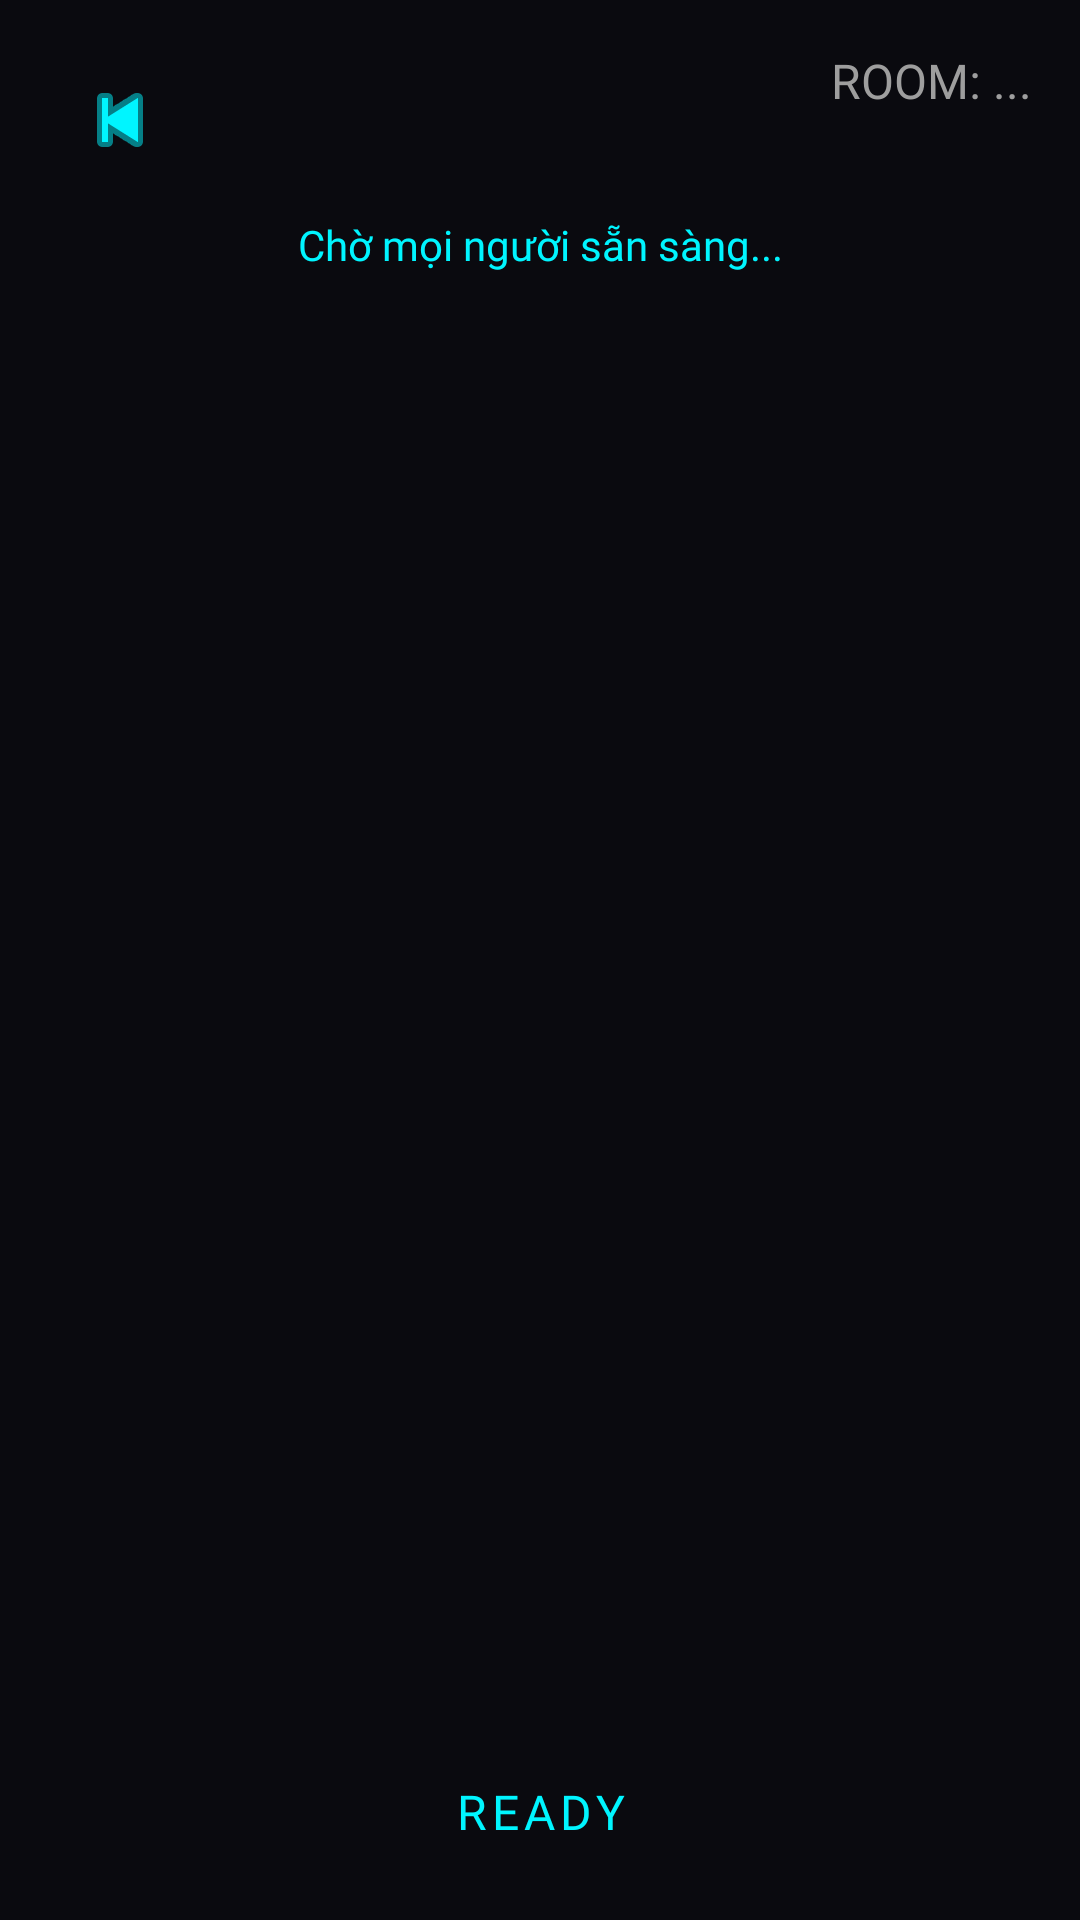

Icon bounding boxes for this 1080 x 1920 phone screenshot, format (x1, y1, x2, y2):
Back: (97, 93, 143, 147)
